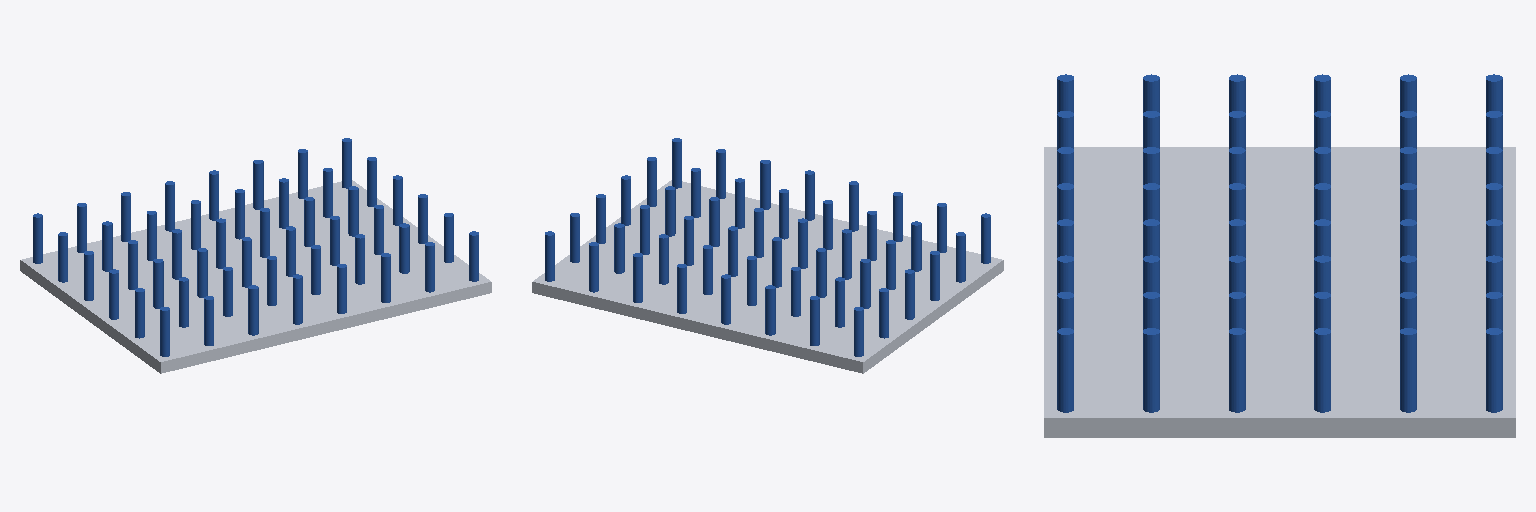
URDF robot description (dvrk_peg_board):
<?xml version="1.0"?>
<!-- SPDX-License-Identifier: Apache-2.0 -->
<robot name="dvrk_peg_board">
  <material name="plate_gray"><color rgba="0.82 0.84 0.88 1.0"/></material>
  <material name="peg_blue"><color rgba="0.22 0.42 0.72 1.0"/></material>
  <link name="peg_board">
    <inertial>
      <origin xyz="0 0 0" rpy="0 0 0"/>
      <mass value="1.0"/>
      <inertia ixx="0.001" ixy="0" ixz="0" iyy="0.001" iyz="0" izz="0.002"/>
    </inertial>
    <!-- Base plate (15cm x 11cm x 0.5cm) -->
    <visual>
      <origin xyz="0 0 -0.0025" rpy="0 0 0"/>
      <geometry><box size="0.150 0.110 0.005"/></geometry>
      <material name="plate_gray"/>
    </visual>
    <collision>
      <origin xyz="0 0 -0.0025" rpy="0 0 0"/>
      <geometry><box size="0.150 0.110 0.005"/></geometry>
    </collision>
    <!-- 48 vertical pegs (2cm height, 4mm diameter) on 2x2cm grid with 0.5cm margin -->
    <visual><origin xyz="-0.070 -0.050 0.010"/><geometry><cylinder radius="0.002" length="0.020"/></geometry><material name="peg_blue"/></visual>
    <collision><origin xyz="-0.070 -0.050 0.010"/><geometry><cylinder radius="0.002" length="0.020"/></geometry></collision>
    <visual><origin xyz="-0.070 -0.030 0.010"/><geometry><cylinder radius="0.002" length="0.020"/></geometry><material name="peg_blue"/></visual>
    <collision><origin xyz="-0.070 -0.030 0.010"/><geometry><cylinder radius="0.002" length="0.020"/></geometry></collision>
    <visual><origin xyz="-0.070 -0.010 0.010"/><geometry><cylinder radius="0.002" length="0.020"/></geometry><material name="peg_blue"/></visual>
    <collision><origin xyz="-0.070 -0.010 0.010"/><geometry><cylinder radius="0.002" length="0.020"/></geometry></collision>
    <visual><origin xyz="-0.070 0.010 0.010"/><geometry><cylinder radius="0.002" length="0.020"/></geometry><material name="peg_blue"/></visual>
    <collision><origin xyz="-0.070 0.010 0.010"/><geometry><cylinder radius="0.002" length="0.020"/></geometry></collision>
    <visual><origin xyz="-0.070 0.030 0.010"/><geometry><cylinder radius="0.002" length="0.020"/></geometry><material name="peg_blue"/></visual>
    <collision><origin xyz="-0.070 0.030 0.010"/><geometry><cylinder radius="0.002" length="0.020"/></geometry></collision>
    <visual><origin xyz="-0.070 0.050 0.010"/><geometry><cylinder radius="0.002" length="0.020"/></geometry><material name="peg_blue"/></visual>
    <collision><origin xyz="-0.070 0.050 0.010"/><geometry><cylinder radius="0.002" length="0.020"/></geometry></collision>
    <visual><origin xyz="-0.050 -0.050 0.010"/><geometry><cylinder radius="0.002" length="0.020"/></geometry><material name="peg_blue"/></visual>
    <collision><origin xyz="-0.050 -0.050 0.010"/><geometry><cylinder radius="0.002" length="0.020"/></geometry></collision>
    <visual><origin xyz="-0.050 -0.030 0.010"/><geometry><cylinder radius="0.002" length="0.020"/></geometry><material name="peg_blue"/></visual>
    <collision><origin xyz="-0.050 -0.030 0.010"/><geometry><cylinder radius="0.002" length="0.020"/></geometry></collision>
    <visual><origin xyz="-0.050 -0.010 0.010"/><geometry><cylinder radius="0.002" length="0.020"/></geometry><material name="peg_blue"/></visual>
    <collision><origin xyz="-0.050 -0.010 0.010"/><geometry><cylinder radius="0.002" length="0.020"/></geometry></collision>
    <visual><origin xyz="-0.050 0.010 0.010"/><geometry><cylinder radius="0.002" length="0.020"/></geometry><material name="peg_blue"/></visual>
    <collision><origin xyz="-0.050 0.010 0.010"/><geometry><cylinder radius="0.002" length="0.020"/></geometry></collision>
    <visual><origin xyz="-0.050 0.030 0.010"/><geometry><cylinder radius="0.002" length="0.020"/></geometry><material name="peg_blue"/></visual>
    <collision><origin xyz="-0.050 0.030 0.010"/><geometry><cylinder radius="0.002" length="0.020"/></geometry></collision>
    <visual><origin xyz="-0.050 0.050 0.010"/><geometry><cylinder radius="0.002" length="0.020"/></geometry><material name="peg_blue"/></visual>
    <collision><origin xyz="-0.050 0.050 0.010"/><geometry><cylinder radius="0.002" length="0.020"/></geometry></collision>
    <visual><origin xyz="-0.030 -0.050 0.010"/><geometry><cylinder radius="0.002" length="0.020"/></geometry><material name="peg_blue"/></visual>
    <collision><origin xyz="-0.030 -0.050 0.010"/><geometry><cylinder radius="0.002" length="0.020"/></geometry></collision>
    <visual><origin xyz="-0.030 -0.030 0.010"/><geometry><cylinder radius="0.002" length="0.020"/></geometry><material name="peg_blue"/></visual>
    <collision><origin xyz="-0.030 -0.030 0.010"/><geometry><cylinder radius="0.002" length="0.020"/></geometry></collision>
    <visual><origin xyz="-0.030 -0.010 0.010"/><geometry><cylinder radius="0.002" length="0.020"/></geometry><material name="peg_blue"/></visual>
    <collision><origin xyz="-0.030 -0.010 0.010"/><geometry><cylinder radius="0.002" length="0.020"/></geometry></collision>
    <visual><origin xyz="-0.030 0.010 0.010"/><geometry><cylinder radius="0.002" length="0.020"/></geometry><material name="peg_blue"/></visual>
    <collision><origin xyz="-0.030 0.010 0.010"/><geometry><cylinder radius="0.002" length="0.020"/></geometry></collision>
    <visual><origin xyz="-0.030 0.030 0.010"/><geometry><cylinder radius="0.002" length="0.020"/></geometry><material name="peg_blue"/></visual>
    <collision><origin xyz="-0.030 0.030 0.010"/><geometry><cylinder radius="0.002" length="0.020"/></geometry></collision>
    <visual><origin xyz="-0.030 0.050 0.010"/><geometry><cylinder radius="0.002" length="0.020"/></geometry><material name="peg_blue"/></visual>
    <collision><origin xyz="-0.030 0.050 0.010"/><geometry><cylinder radius="0.002" length="0.020"/></geometry></collision>
    <visual><origin xyz="-0.010 -0.050 0.010"/><geometry><cylinder radius="0.002" length="0.020"/></geometry><material name="peg_blue"/></visual>
    <collision><origin xyz="-0.010 -0.050 0.010"/><geometry><cylinder radius="0.002" length="0.020"/></geometry></collision>
    <visual><origin xyz="-0.010 -0.030 0.010"/><geometry><cylinder radius="0.002" length="0.020"/></geometry><material name="peg_blue"/></visual>
    <collision><origin xyz="-0.010 -0.030 0.010"/><geometry><cylinder radius="0.002" length="0.020"/></geometry></collision>
    <visual><origin xyz="-0.010 -0.010 0.010"/><geometry><cylinder radius="0.002" length="0.020"/></geometry><material name="peg_blue"/></visual>
    <collision><origin xyz="-0.010 -0.010 0.010"/><geometry><cylinder radius="0.002" length="0.020"/></geometry></collision>
    <visual><origin xyz="-0.010 0.010 0.010"/><geometry><cylinder radius="0.002" length="0.020"/></geometry><material name="peg_blue"/></visual>
    <collision><origin xyz="-0.010 0.010 0.010"/><geometry><cylinder radius="0.002" length="0.020"/></geometry></collision>
    <visual><origin xyz="-0.010 0.030 0.010"/><geometry><cylinder radius="0.002" length="0.020"/></geometry><material name="peg_blue"/></visual>
    <collision><origin xyz="-0.010 0.030 0.010"/><geometry><cylinder radius="0.002" length="0.020"/></geometry></collision>
    <visual><origin xyz="-0.010 0.050 0.010"/><geometry><cylinder radius="0.002" length="0.020"/></geometry><material name="peg_blue"/></visual>
    <collision><origin xyz="-0.010 0.050 0.010"/><geometry><cylinder radius="0.002" length="0.020"/></geometry></collision>
    <visual><origin xyz="0.010 -0.050 0.010"/><geometry><cylinder radius="0.002" length="0.020"/></geometry><material name="peg_blue"/></visual>
    <collision><origin xyz="0.010 -0.050 0.010"/><geometry><cylinder radius="0.002" length="0.020"/></geometry></collision>
    <visual><origin xyz="0.010 -0.030 0.010"/><geometry><cylinder radius="0.002" length="0.020"/></geometry><material name="peg_blue"/></visual>
    <collision><origin xyz="0.010 -0.030 0.010"/><geometry><cylinder radius="0.002" length="0.020"/></geometry></collision>
    <visual><origin xyz="0.010 -0.010 0.010"/><geometry><cylinder radius="0.002" length="0.020"/></geometry><material name="peg_blue"/></visual>
    <collision><origin xyz="0.010 -0.010 0.010"/><geometry><cylinder radius="0.002" length="0.020"/></geometry></collision>
    <visual><origin xyz="0.010 0.010 0.010"/><geometry><cylinder radius="0.002" length="0.020"/></geometry><material name="peg_blue"/></visual>
    <collision><origin xyz="0.010 0.010 0.010"/><geometry><cylinder radius="0.002" length="0.020"/></geometry></collision>
    <visual><origin xyz="0.010 0.030 0.010"/><geometry><cylinder radius="0.002" length="0.020"/></geometry><material name="peg_blue"/></visual>
    <collision><origin xyz="0.010 0.030 0.010"/><geometry><cylinder radius="0.002" length="0.020"/></geometry></collision>
    <visual><origin xyz="0.010 0.050 0.010"/><geometry><cylinder radius="0.002" length="0.020"/></geometry><material name="peg_blue"/></visual>
    <collision><origin xyz="0.010 0.050 0.010"/><geometry><cylinder radius="0.002" length="0.020"/></geometry></collision>
    <visual><origin xyz="0.030 -0.050 0.010"/><geometry><cylinder radius="0.002" length="0.020"/></geometry><material name="peg_blue"/></visual>
    <collision><origin xyz="0.030 -0.050 0.010"/><geometry><cylinder radius="0.002" length="0.020"/></geometry></collision>
    <visual><origin xyz="0.030 -0.030 0.010"/><geometry><cylinder radius="0.002" length="0.020"/></geometry><material name="peg_blue"/></visual>
    <collision><origin xyz="0.030 -0.030 0.010"/><geometry><cylinder radius="0.002" length="0.020"/></geometry></collision>
    <visual><origin xyz="0.030 -0.010 0.010"/><geometry><cylinder radius="0.002" length="0.020"/></geometry><material name="peg_blue"/></visual>
    <collision><origin xyz="0.030 -0.010 0.010"/><geometry><cylinder radius="0.002" length="0.020"/></geometry></collision>
    <visual><origin xyz="0.030 0.010 0.010"/><geometry><cylinder radius="0.002" length="0.020"/></geometry><material name="peg_blue"/></visual>
    <collision><origin xyz="0.030 0.010 0.010"/><geometry><cylinder radius="0.002" length="0.020"/></geometry></collision>
    <visual><origin xyz="0.030 0.030 0.010"/><geometry><cylinder radius="0.002" length="0.020"/></geometry><material name="peg_blue"/></visual>
    <collision><origin xyz="0.030 0.030 0.010"/><geometry><cylinder radius="0.002" length="0.020"/></geometry></collision>
    <visual><origin xyz="0.030 0.050 0.010"/><geometry><cylinder radius="0.002" length="0.020"/></geometry><material name="peg_blue"/></visual>
    <collision><origin xyz="0.030 0.050 0.010"/><geometry><cylinder radius="0.002" length="0.020"/></geometry></collision>
    <visual><origin xyz="0.050 -0.050 0.010"/><geometry><cylinder radius="0.002" length="0.020"/></geometry><material name="peg_blue"/></visual>
    <collision><origin xyz="0.050 -0.050 0.010"/><geometry><cylinder radius="0.002" length="0.020"/></geometry></collision>
    <visual><origin xyz="0.050 -0.030 0.010"/><geometry><cylinder radius="0.002" length="0.020"/></geometry><material name="peg_blue"/></visual>
    <collision><origin xyz="0.050 -0.030 0.010"/><geometry><cylinder radius="0.002" length="0.020"/></geometry></collision>
    <visual><origin xyz="0.050 -0.010 0.010"/><geometry><cylinder radius="0.002" length="0.020"/></geometry><material name="peg_blue"/></visual>
    <collision><origin xyz="0.050 -0.010 0.010"/><geometry><cylinder radius="0.002" length="0.020"/></geometry></collision>
    <visual><origin xyz="0.050 0.010 0.010"/><geometry><cylinder radius="0.002" length="0.020"/></geometry><material name="peg_blue"/></visual>
    <collision><origin xyz="0.050 0.010 0.010"/><geometry><cylinder radius="0.002" length="0.020"/></geometry></collision>
    <visual><origin xyz="0.050 0.030 0.010"/><geometry><cylinder radius="0.002" length="0.020"/></geometry><material name="peg_blue"/></visual>
    <collision><origin xyz="0.050 0.030 0.010"/><geometry><cylinder radius="0.002" length="0.020"/></geometry></collision>
    <visual><origin xyz="0.050 0.050 0.010"/><geometry><cylinder radius="0.002" length="0.020"/></geometry><material name="peg_blue"/></visual>
    <collision><origin xyz="0.050 0.050 0.010"/><geometry><cylinder radius="0.002" length="0.020"/></geometry></collision>
    <visual><origin xyz="0.070 -0.050 0.010"/><geometry><cylinder radius="0.002" length="0.020"/></geometry><material name="peg_blue"/></visual>
    <collision><origin xyz="0.070 -0.050 0.010"/><geometry><cylinder radius="0.002" length="0.020"/></geometry></collision>
    <visual><origin xyz="0.070 -0.030 0.010"/><geometry><cylinder radius="0.002" length="0.020"/></geometry><material name="peg_blue"/></visual>
    <collision><origin xyz="0.070 -0.030 0.010"/><geometry><cylinder radius="0.002" length="0.020"/></geometry></collision>
    <visual><origin xyz="0.070 -0.010 0.010"/><geometry><cylinder radius="0.002" length="0.020"/></geometry><material name="peg_blue"/></visual>
    <collision><origin xyz="0.070 -0.010 0.010"/><geometry><cylinder radius="0.002" length="0.020"/></geometry></collision>
    <visual><origin xyz="0.070 0.010 0.010"/><geometry><cylinder radius="0.002" length="0.020"/></geometry><material name="peg_blue"/></visual>
    <collision><origin xyz="0.070 0.010 0.010"/><geometry><cylinder radius="0.002" length="0.020"/></geometry></collision>
    <visual><origin xyz="0.070 0.030 0.010"/><geometry><cylinder radius="0.002" length="0.020"/></geometry><material name="peg_blue"/></visual>
    <collision><origin xyz="0.070 0.030 0.010"/><geometry><cylinder radius="0.002" length="0.020"/></geometry></collision>
    <visual><origin xyz="0.070 0.050 0.010"/><geometry><cylinder radius="0.002" length="0.020"/></geometry><material name="peg_blue"/></visual>
    <collision><origin xyz="0.070 0.050 0.010"/><geometry><cylinder radius="0.002" length="0.020"/></geometry></collision>
    <contact><lateral_friction value="1.0"/></contact>
  </link>
</robot>

--- Facts derived from the render (not from the file) ---
The picture shows the robot from 3 angles, left to right: view 1: azimuth 30°, elevation 25°; view 2: azimuth 150°, elevation 25°; view 3: azimuth 270°, elevation 25°; orthographic projection.
Robot: dvrk_peg_board — 1 links, 0 joints (none); root link peg_board; default pose: all joints at 0.
Links seen in each view (by area): view 1: peg_board; view 2: peg_board; view 3: peg_board.
Boxes of the visible links, x1,y1,x2,y2 form: peg_board: (20,138,491,373); peg_board: (532,138,1003,373); peg_board: (1044,74,1515,437).
Bounding box of the posed robot: 0.15 × 0.11 × 0.025 m (x, y, z).
Geometry: primitives only (box / cylinder / sphere), no mesh files.
